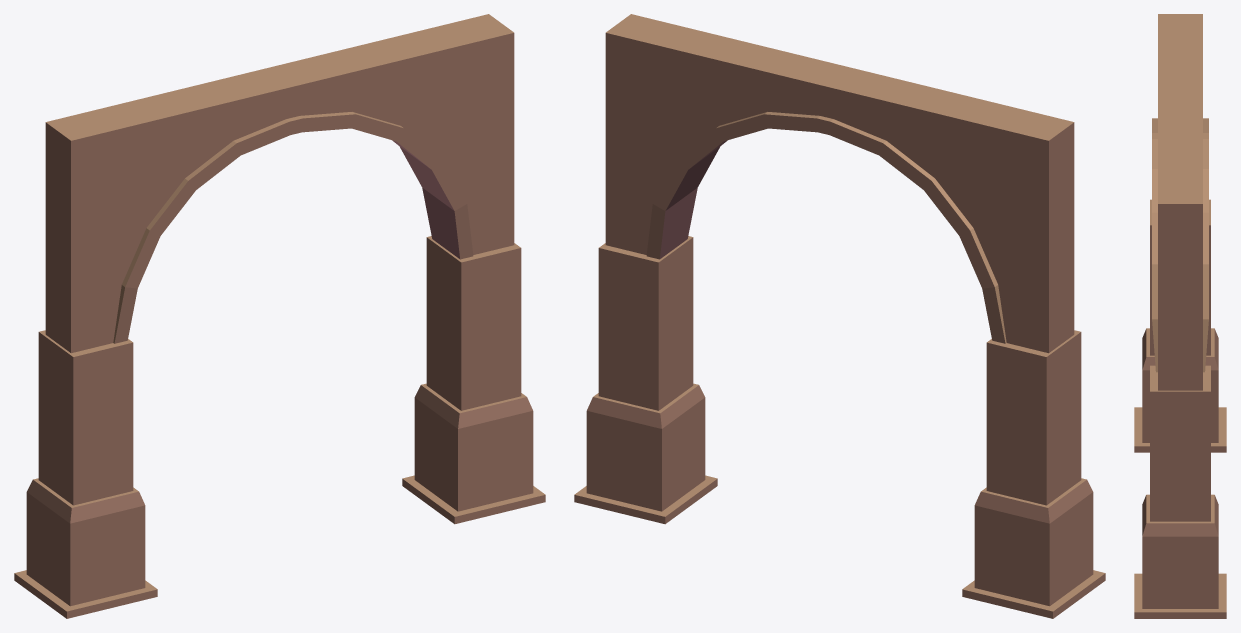
Rendered from arch3.glb.
3 views of the same model, side by side, from view 1: azimuth 30°, elevation 25°; view 2: azimuth 150°, elevation 25°; view 3: azimuth 270°, elevation 25° (orthographic). The views are drawn at different scales.
Visible parts, largest first — view 1: Arch8; view 2: Arch8; view 3: Arch8.
Part boxes in pixels (box(x1,y1,x2,y2)): Arch8: box(14, 14, 545, 618); Arch8: box(574, 14, 1105, 618); Arch8: box(1134, 14, 1226, 618).
Size of the model in its own units: 4.32 by 4 by 0.8209.
Materials: 1 (1 with a texture image).
